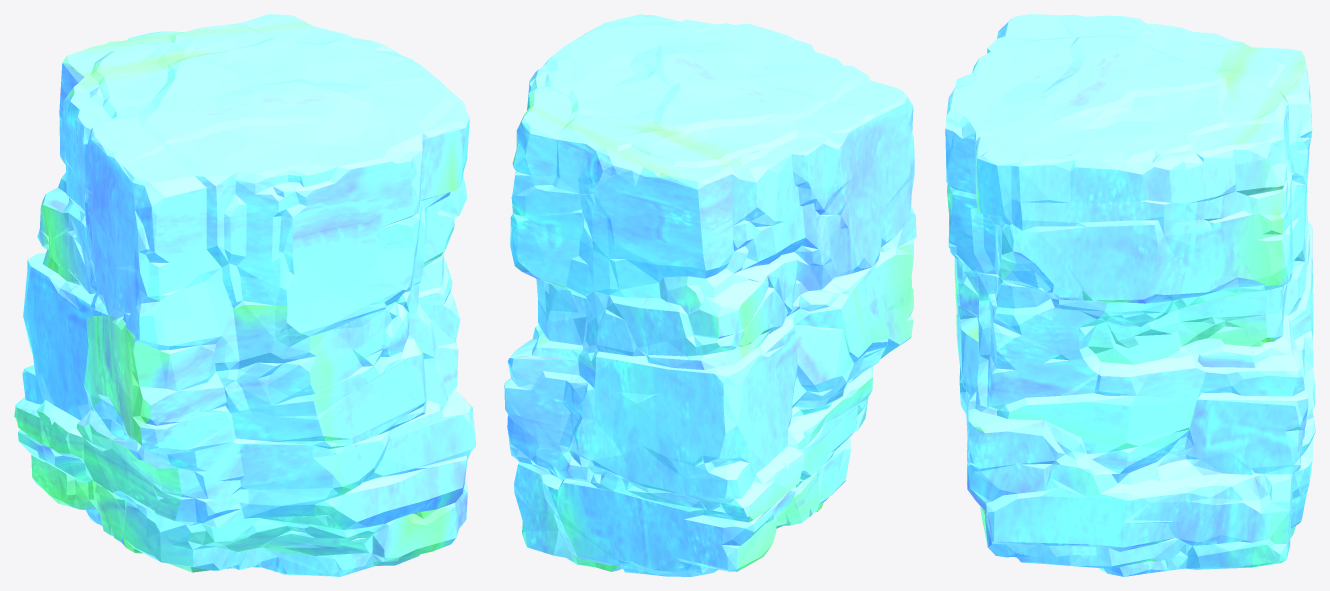
The model's file is CliffRock.fbx.
3 views of the same model, side by side, from view 1: azimuth 30°, elevation 25°; view 2: azimuth 150°, elevation 25°; view 3: azimuth 270°, elevation 25° (orthographic). The views are drawn at different scales.
Visible parts, largest first — view 1: Dn_HL_Cliff_Rock_A.mo; view 2: Dn_HL_Cliff_Rock_A.mo; view 3: Dn_HL_Cliff_Rock_A.mo.
Part boxes in pixels (x1,y1,x2,y2): Dn_HL_Cliff_Rock_A.mo: (14,14,475,576); Dn_HL_Cliff_Rock_A.mo: (504,14,916,576); Dn_HL_Cliff_Rock_A.mo: (945,14,1315,576).
Size of the model in its own units: 1470 by 1944 by 1473.
